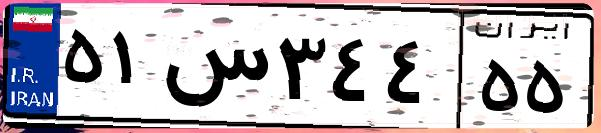1: (110, 28, 158, 98)
3: (270, 28, 330, 110)
4: (385, 28, 445, 110), (330, 28, 385, 110)
5: (57, 26, 110, 100), (475, 38, 525, 113), (525, 38, 570, 115)
س: (158, 20, 270, 120)
